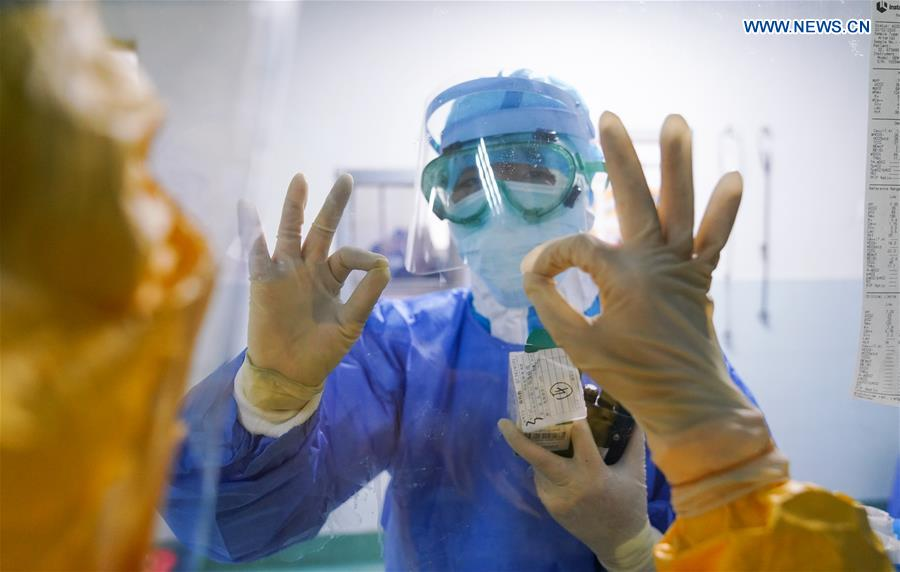hand: (524, 113, 745, 424), (237, 174, 389, 386)
